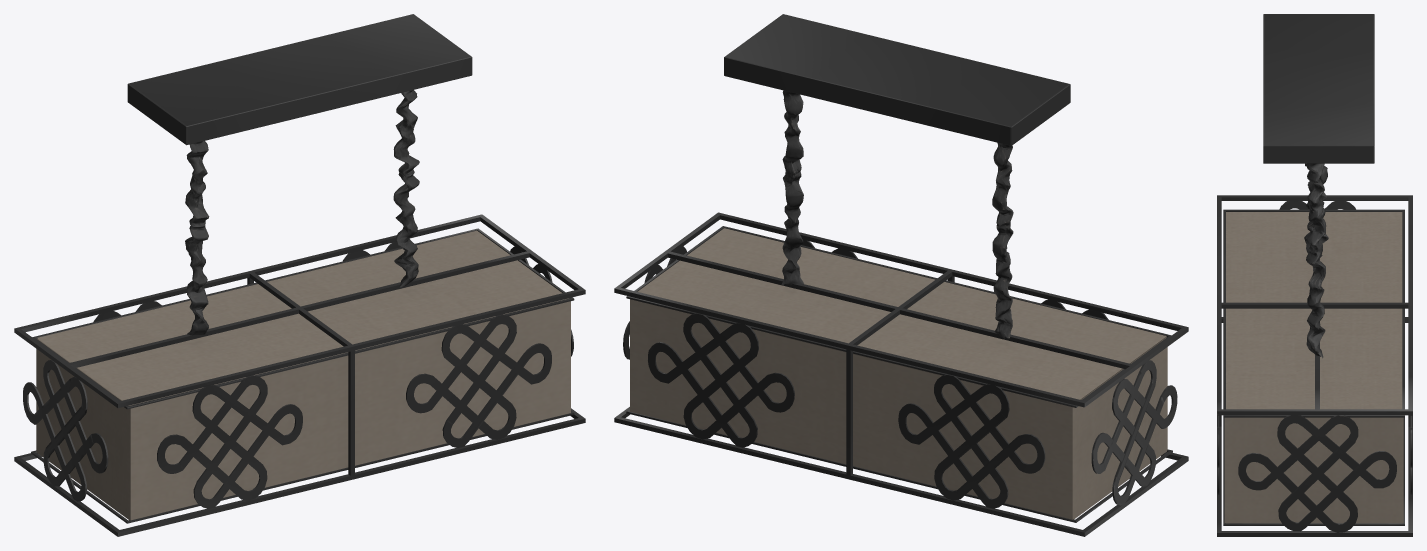
File: raw_model.obj
The picture shows the model from 3 angles, left to right: view 1: azimuth 30°, elevation 25°; view 2: azimuth 150°, elevation 25°; view 3: azimuth 270°, elevation 25°; orthographic projection. The views are drawn at different scales.
Visible parts, largest first — view 1: glass_001, solid_003, solid_001; view 2: glass_001, solid_003, solid_001; view 3: glass_001, solid_003, solid_001.
Boxes of the visible parts, x1=… form: glass_001: x1=36, y1=230, x2=570, y2=520; solid_003: x1=14, y1=14, x2=585, y2=536; solid_001: x1=185, y1=90, x2=419, y2=335; glass_001: x1=630, y1=228, x2=1167, y2=519; solid_003: x1=614, y1=14, x2=1188, y2=536; solid_001: x1=781, y1=90, x2=1013, y2=338; glass_001: x1=1224, y1=212, x2=1403, y2=523; solid_003: x1=1217, y1=14, x2=1412, y2=536; solid_001: x1=1304, y1=163, x2=1328, y2=358.
Bounding box in the file's own units: 0.5594 × 0.4228 × 0.2142.
1 material, 1 textured.
